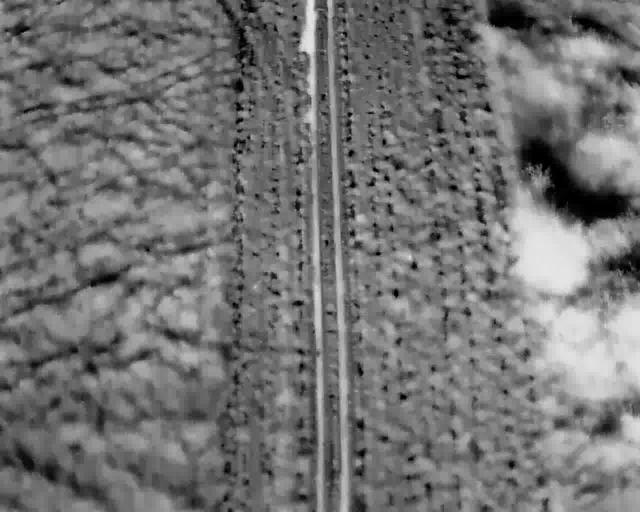car: (324, 436, 361, 512), (321, 331, 353, 397)
